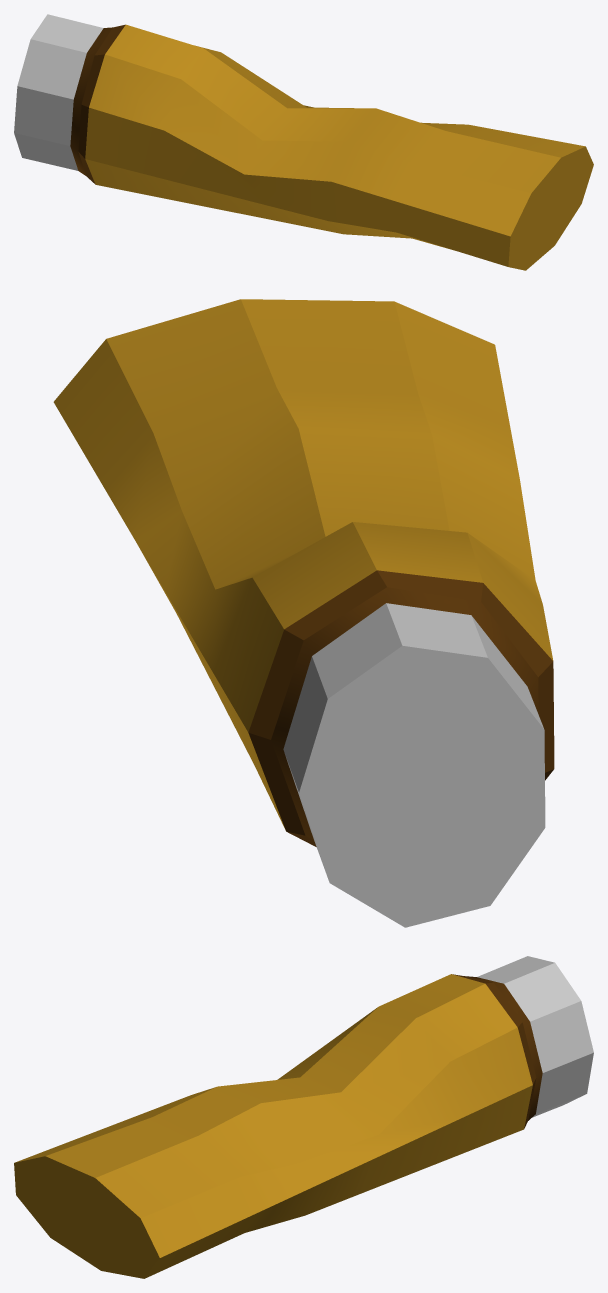
File: bathroom_toothpaste_squeezed.fbx
3 renders of one model, top to bottom at view 1: azimuth 30°, elevation 25°; view 2: azimuth 150°, elevation 25°; view 3: azimuth 270°, elevation 25°, orthographic. The views are drawn at different scales.
Visible parts, largest first — view 1: interactible_toothpaste_squeezed; view 2: interactible_toothpaste_squeezed; view 3: interactible_toothpaste_squeezed.
Part boxes in pixels (box(x1,y1,x2,y2)): interactible_toothpaste_squeezed: box(14, 14, 593, 270); interactible_toothpaste_squeezed: box(53, 299, 554, 927); interactible_toothpaste_squeezed: box(14, 956, 593, 1278).
Size of the model in its own units: 0.1939 by 0.0673 by 0.222.
